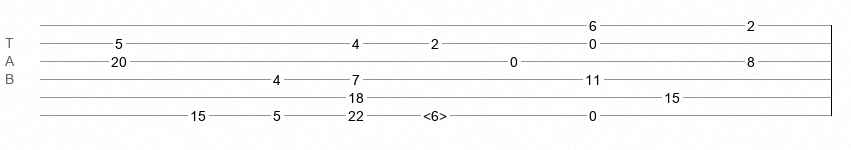0: (510, 54, 518, 64), (589, 36, 597, 46), (589, 108, 597, 118)
11: (585, 72, 601, 82)
15: (190, 108, 206, 118), (664, 90, 680, 100)
18: (348, 90, 364, 100)
2: (431, 36, 439, 46), (747, 18, 755, 28)
20: (111, 54, 127, 64)
22: (348, 108, 364, 118)
4: (273, 72, 281, 82), (352, 36, 360, 46)
5: (115, 36, 123, 46), (273, 108, 281, 118)
6: (589, 18, 597, 28)
7: (352, 72, 360, 82)
8: (747, 54, 755, 64)
harmonic: (423, 108, 447, 118)
